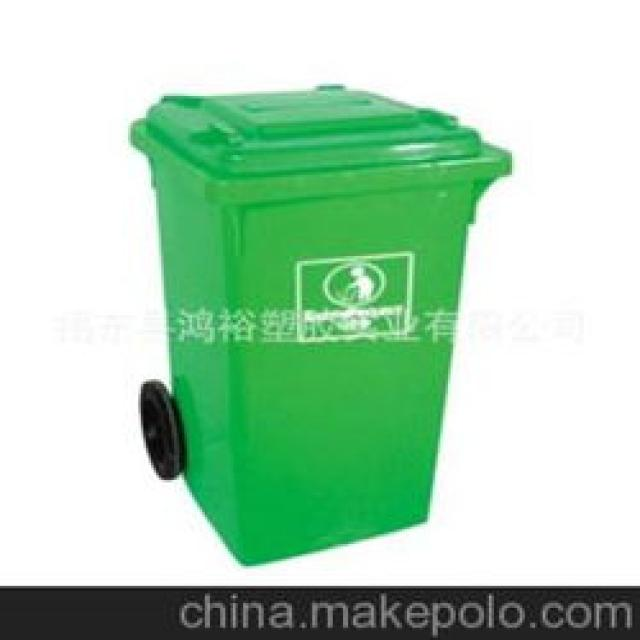garbage_bin: (128, 84, 509, 564)
